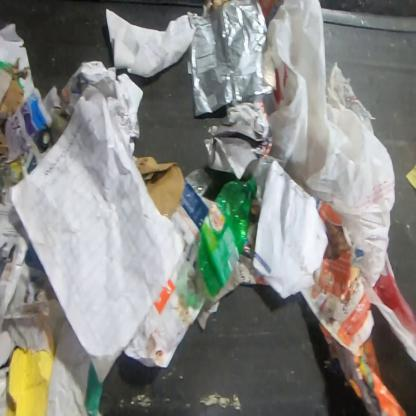cardboard: (132, 155, 186, 221), (0, 62, 23, 121)
rigid_plastic: (195, 174, 258, 298), (169, 167, 215, 256)
soft_plastic: (243, 0, 415, 366), (188, 0, 274, 118)
